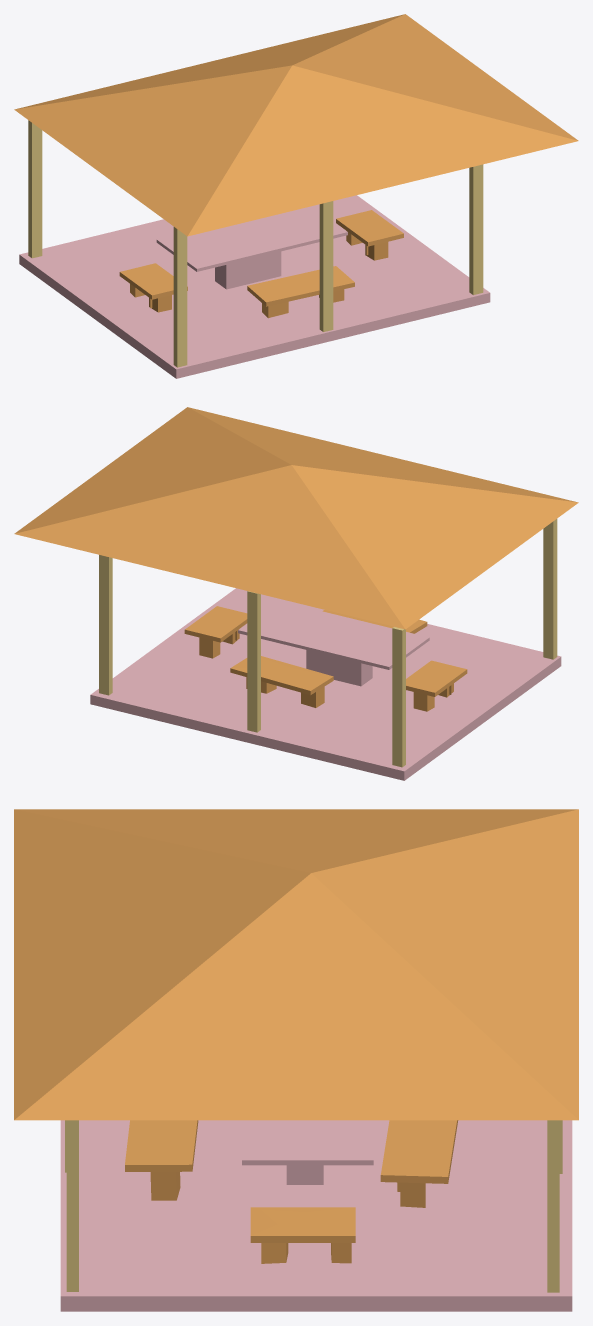
The model's file is LibraryShedFINglb.glb.
3 views of the same model, one above another, from view 1: azimuth 30°, elevation 25°; view 2: azimuth 150°, elevation 25°; view 3: azimuth 270°, elevation 25° (orthographic). The views are drawn at different scales.
Parts seen in each view (by area): view 1: Cube.007, Cube, Cube.009, Cube.013, Cube.001, Cube.006, Cube.003, Cube.002, Cube.010, Cube.011, Cube.008; view 2: Cube.007, Cube, Cube.009, Cube.012, Cube.001, Cube.004, Cube.006, Cube.005, Cube.010, Cube.011, Cube.008; view 3: Cube.007, Cube, Cube.009, Cube.012, Cube.010, Cube.013, Cube.005, Cube.002, Cube.008.
Part boxes in pixels (<box>): Cube.007: <box>14,14,578,236</box>; Cube: <box>19,195,490,378</box>; Cube.009: <box>156,206,347,271</box>; Cube.013: <box>247,266,354,318</box>; Cube.001: <box>173,227,187,367</box>; Cube.006: <box>28,120,42,258</box>; Cube.003: <box>319,201,333,331</box>; Cube.002: <box>469,164,483,294</box>; Cube.010: <box>336,210,403,260</box>; Cube.011: <box>119,263,187,312</box>; Cube.008: <box>215,251,281,289</box>; Cube.007: <box>14,407,578,629</box>; Cube: <box>90,588,561,780</box>; Cube.009: <box>238,600,429,669</box>; Cube.012: <box>230,656,333,707</box>; Cube.001: <box>543,519,557,659</box>; Cube.004: <box>247,591,260,732</box>; Cube.006: <box>392,627,405,767</box>; Cube.005: <box>99,555,112,695</box>; Cube.010: <box>184,606,247,658</box>; Cube.011: <box>406,660,467,711</box>; Cube.008: <box>306,650,372,686</box>; Cube.007: <box>14,809,578,1120</box>; Cube: <box>60,1120,572,1311</box>; Cube.009: <box>242,1120,373,1165</box>; Cube.012: <box>380,1120,458,1207</box>; Cube.010: <box>250,1207,355,1263</box>; Cube.013: <box>125,1120,198,1200</box>; Cube.005: <box>547,1120,559,1292</box>; Cube.002: <box>66,1120,78,1291</box>; Cube.008: <box>286,1165,323,1184</box>.
Bounding box in the file's own units: 10.27 × 5.27 × 7.88.
